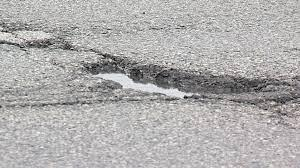pothole: (75, 48, 278, 112)
